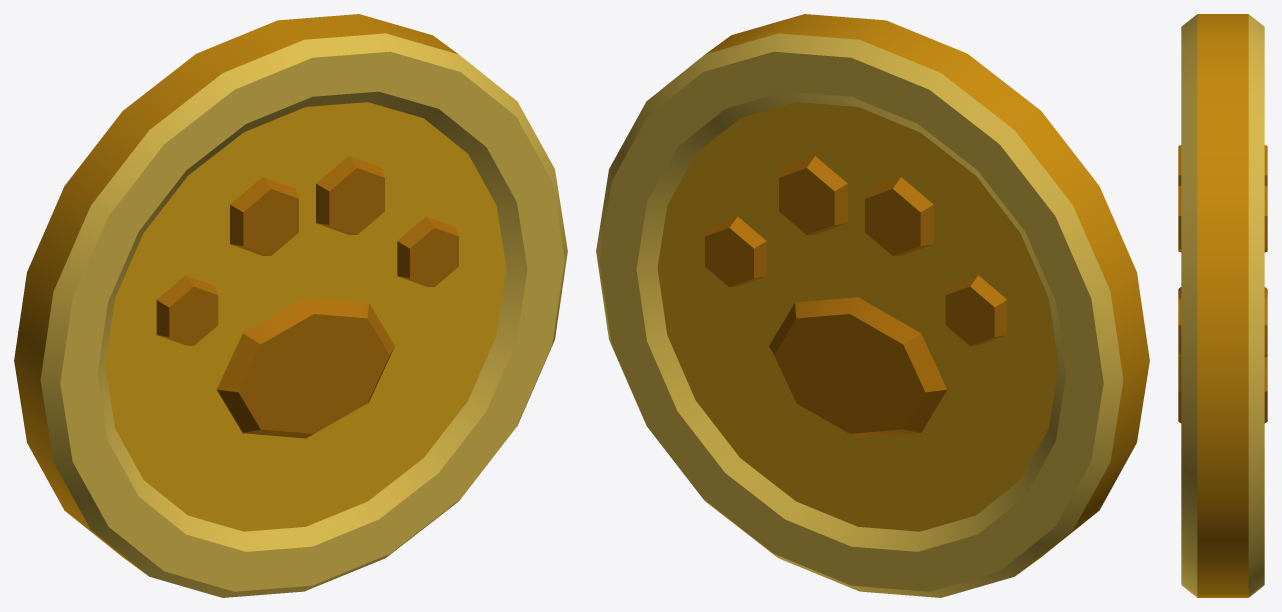
Rendered from moneda.glb.
The picture shows the model from 3 angles, left to right: view 1: azimuth 30°, elevation 25°; view 2: azimuth 150°, elevation 25°; view 3: azimuth 270°, elevation 25°; orthographic projection. The views are drawn at different scales.
Visible parts, largest first — view 1: moneda; view 2: moneda; view 3: moneda.
Boxes of the visible parts, <box> form: moneda: <box>14,14,567,597</box>; moneda: <box>596,14,1149,597</box>; moneda: <box>1178,14,1267,597</box>.
Size of the model in its own units: 0.92 by 0.92 by 0.14.
